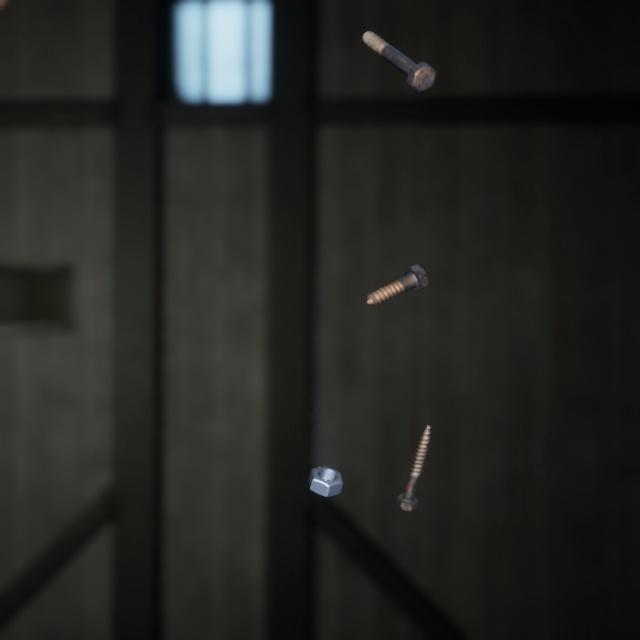bolt: (357, 17, 441, 88), (391, 400, 435, 496), (361, 243, 432, 294)
nut: (305, 441, 349, 479)
